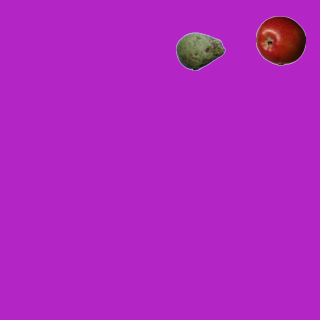Apple Braeburn: (255, 15, 305, 65)
Pear Stone: (175, 26, 225, 76)
